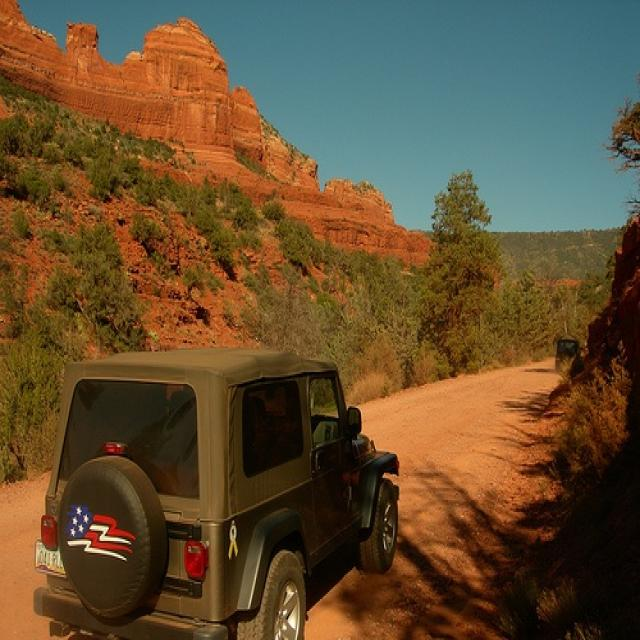car: (33, 345, 401, 638)
